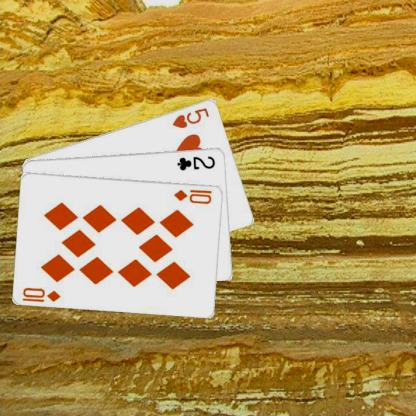10D: (172, 186, 213, 205), (20, 285, 62, 303)
2C: (174, 153, 216, 171)
5H: (170, 105, 211, 129)
